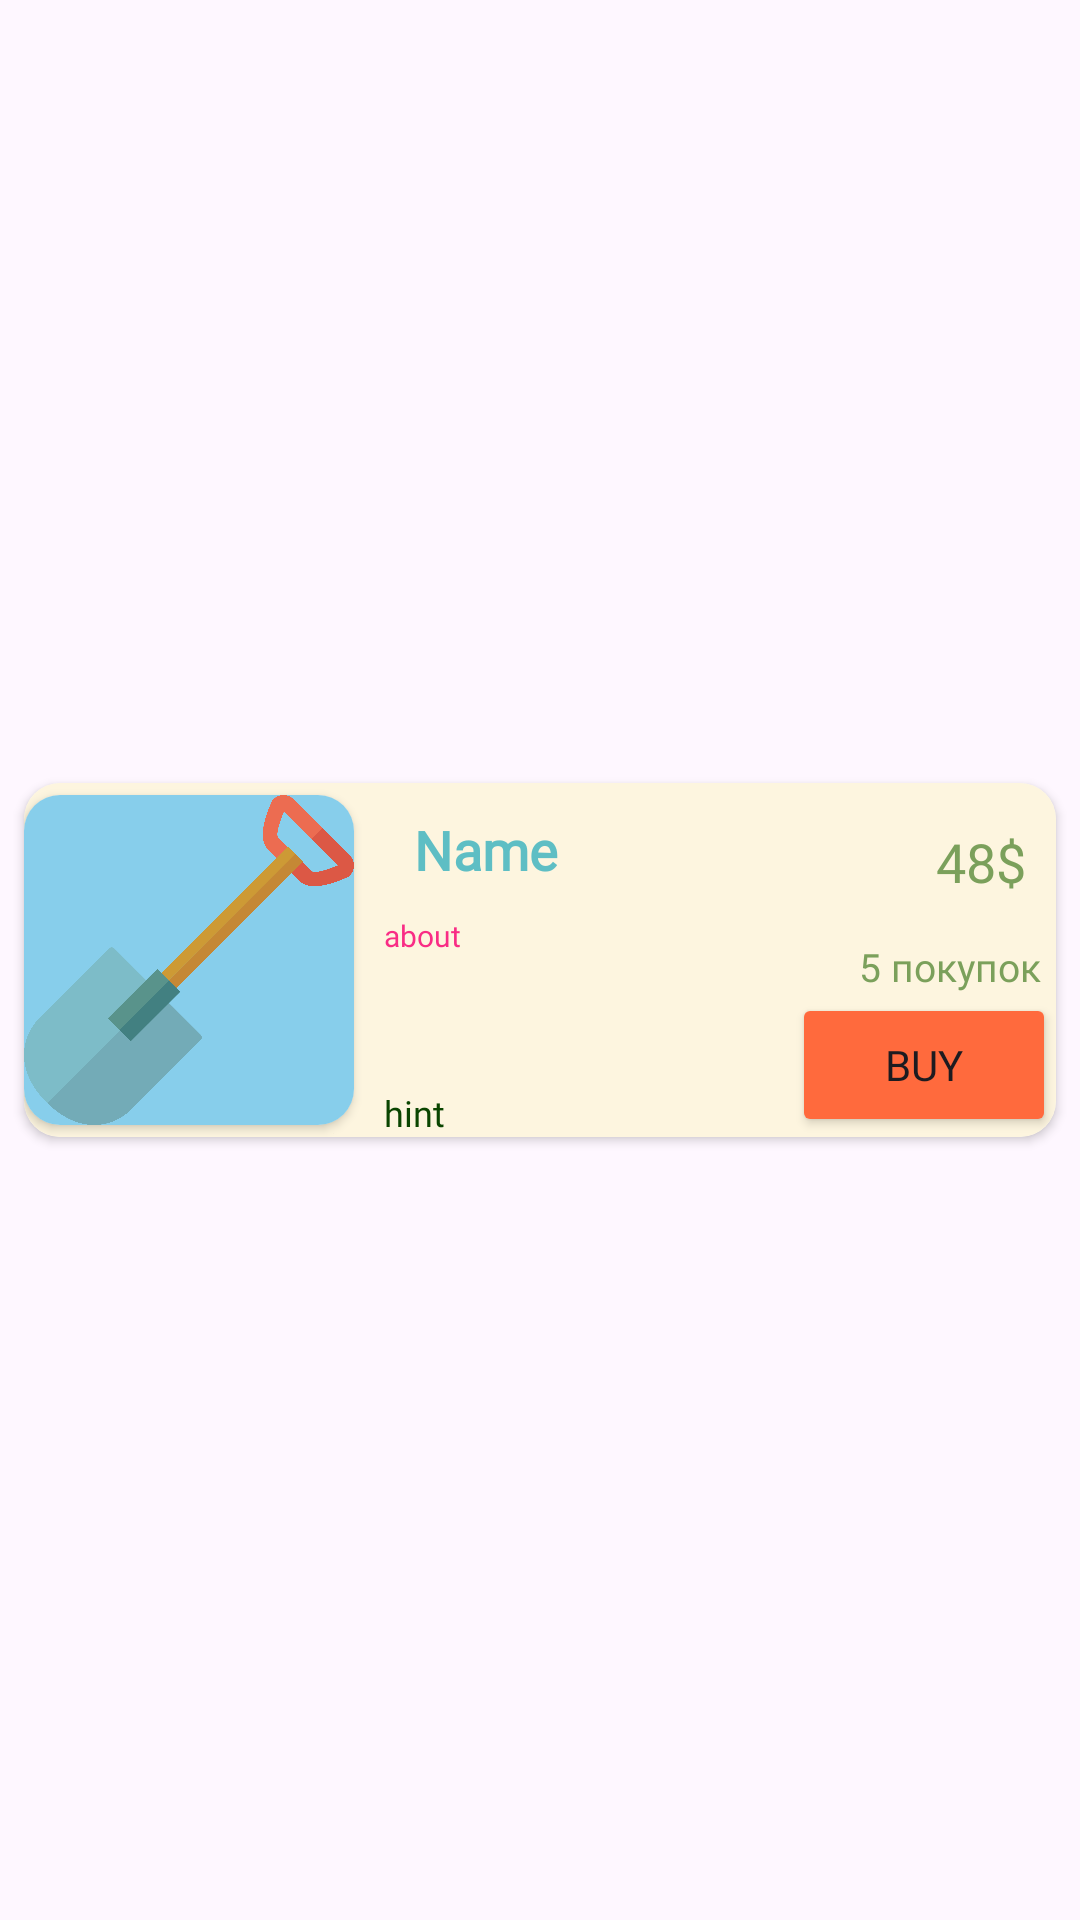

Icons on this 1080px×1920px Android screen, each with its box as (x1, y1, x2, y2):
shovel: (24, 795, 354, 1125)
